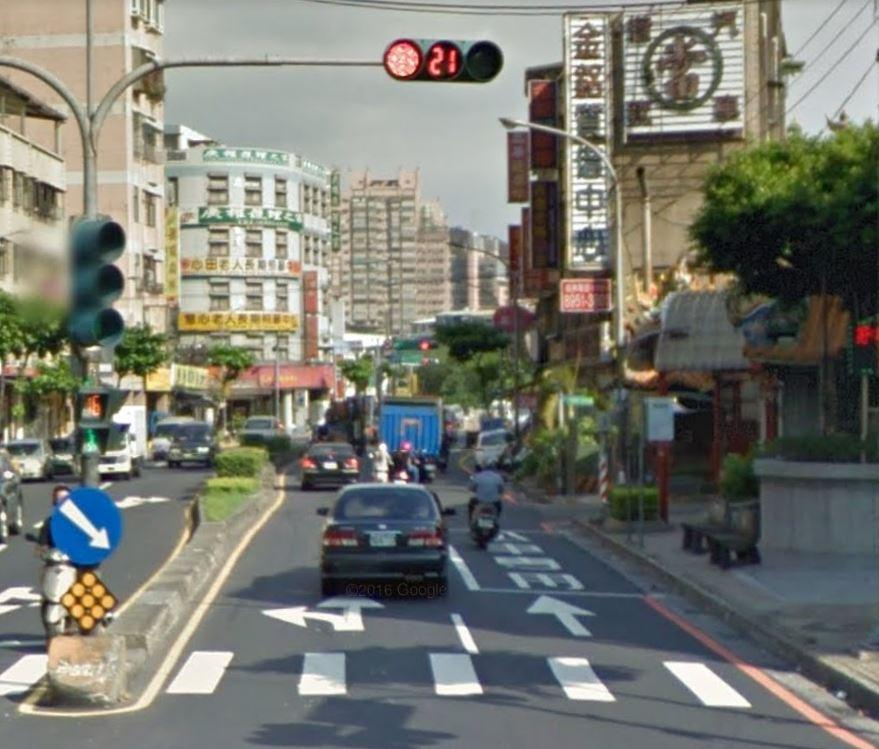red_traffic_light: (380, 35, 503, 84)
